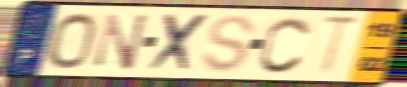C: (257, 15, 315, 76)
N: (92, 12, 151, 73)
O: (44, 11, 99, 71)
S: (200, 13, 258, 74)
T: (316, 13, 363, 78)
X: (146, 11, 213, 74)
